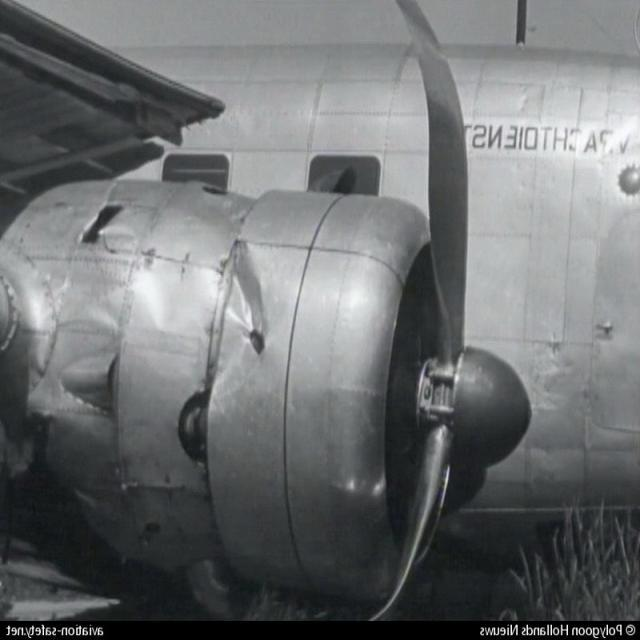dent: (210, 267, 263, 354)
